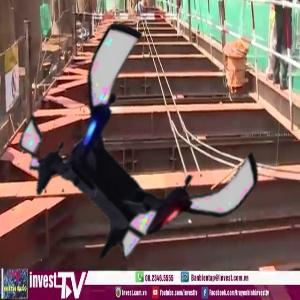drone: (21, 38, 263, 280)
